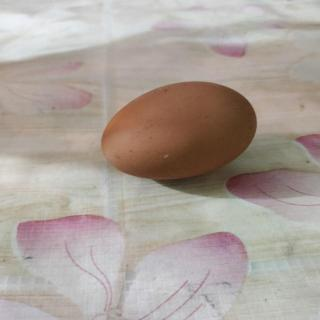Telur: (99, 82, 263, 184)
